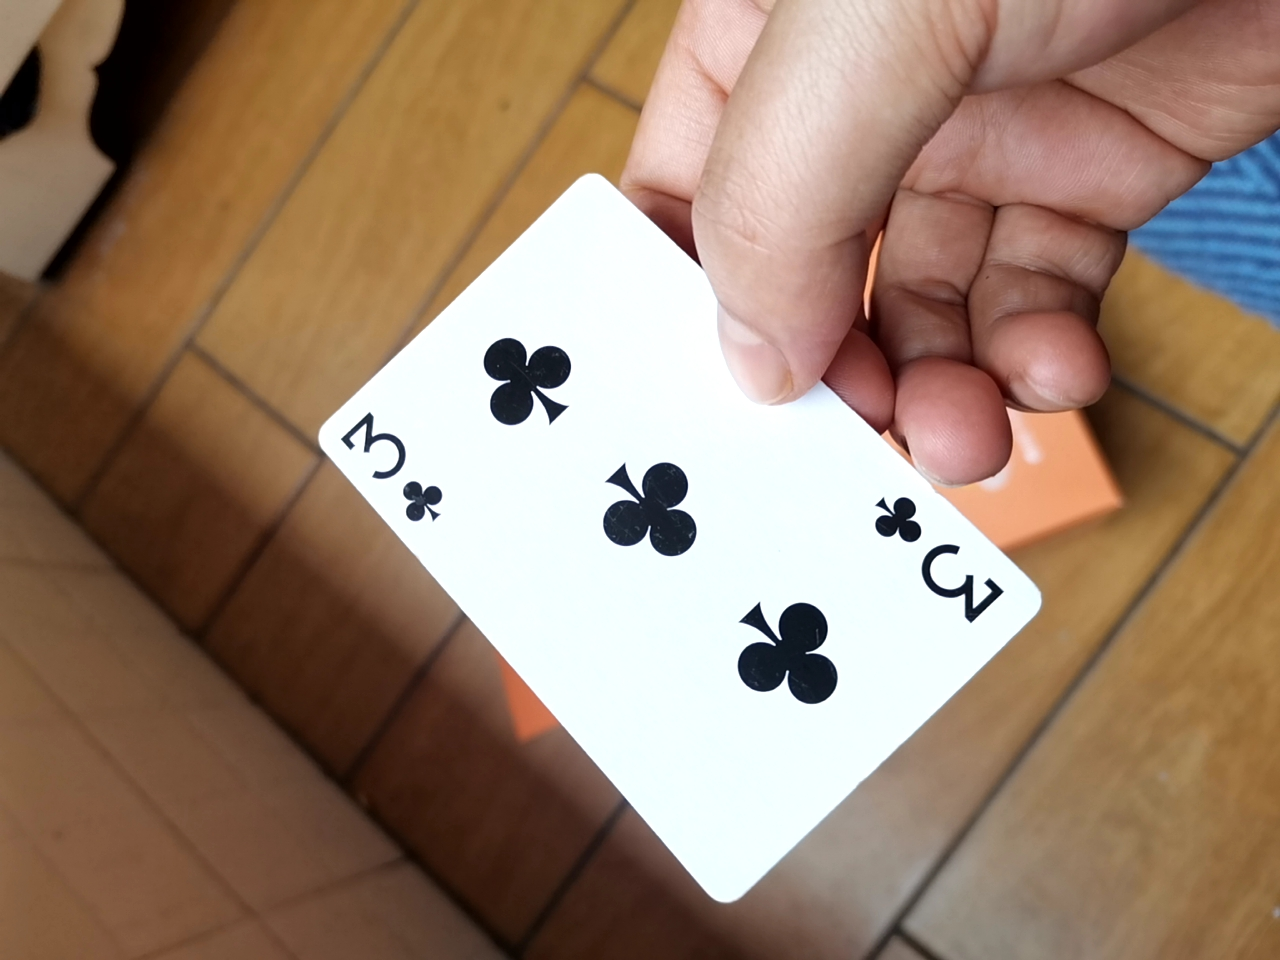mh 3: (304, 176, 1025, 923)
